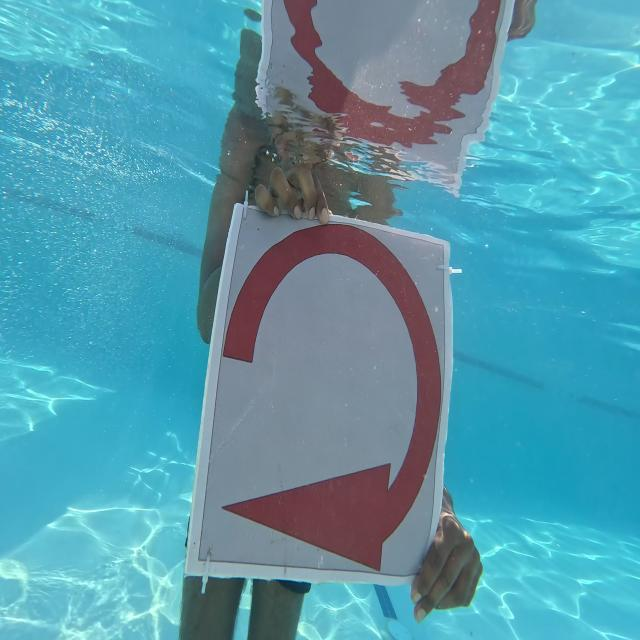red_side: (178, 182, 456, 619)
